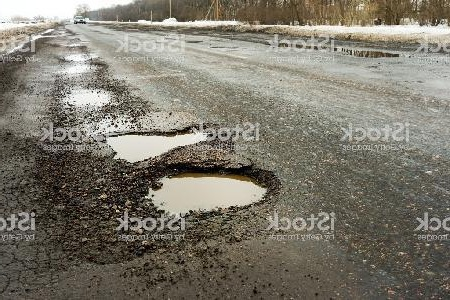pothole: (122, 157, 285, 224), (102, 121, 216, 162), (64, 83, 116, 108), (61, 59, 106, 74), (61, 48, 98, 59)
